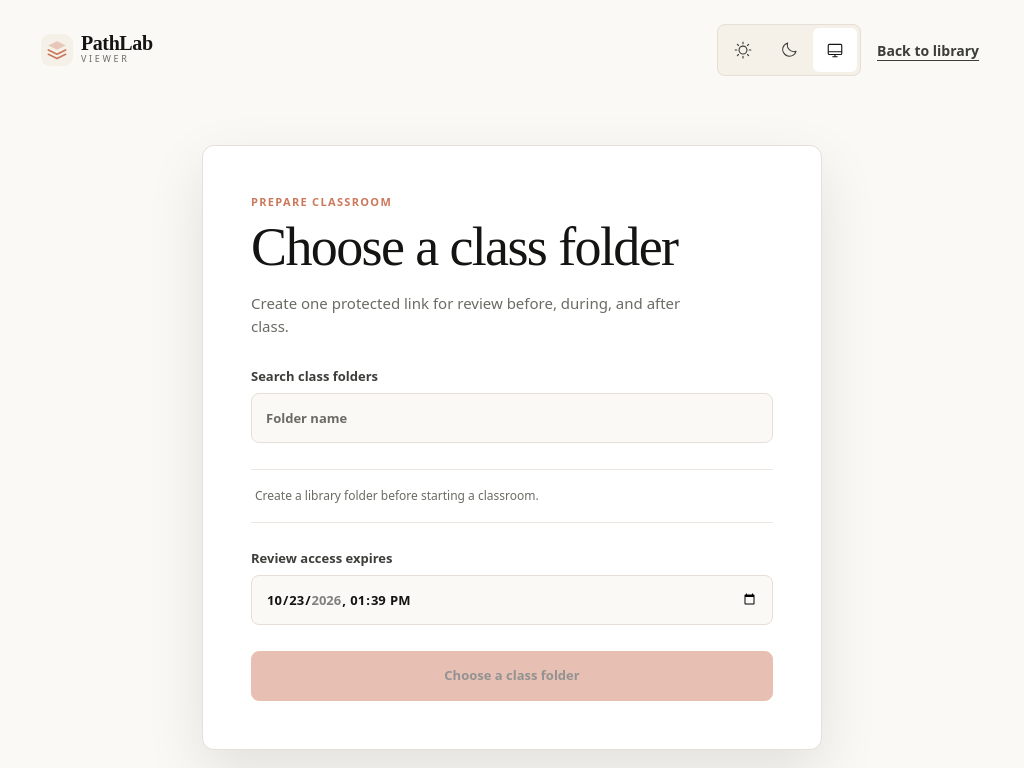
Scenario: Classroom folder setup › shows safe empty and error states and clears a recovered deferred folder failure
The image size is (1024, 768).
Check: the text "Create a library folder before starting a classroom." is shown, box [255,486,539,504]
Type "renal" into the search field labelled "Search class folders" at (512, 418), box [251,392,773,442]
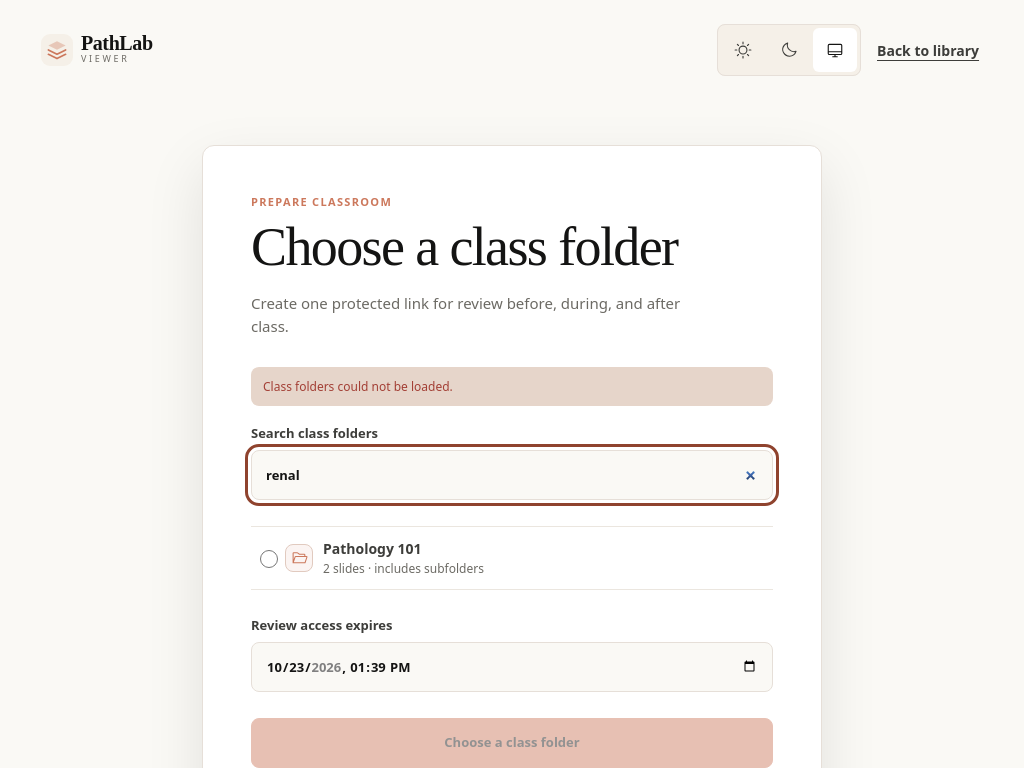
Check: the message reads "Class folders could not be loaded.", box [263,378,453,394]
Type "x" into the search field labelled "Search class folders" at (512, 475), box [251,450,773,500]
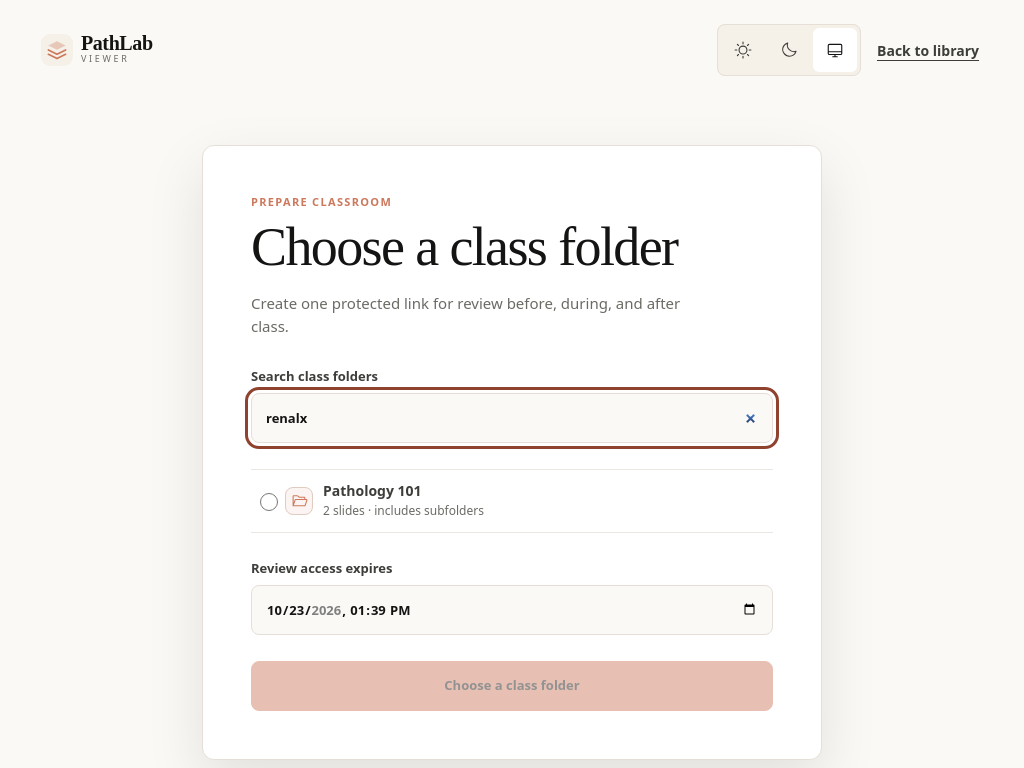
Check: the radio button labelled "Pathology 101 2 slides · includes subfolders" is shown, box [260,493,278,511]
Check: the text "Class folders could not be loaded." is gone
